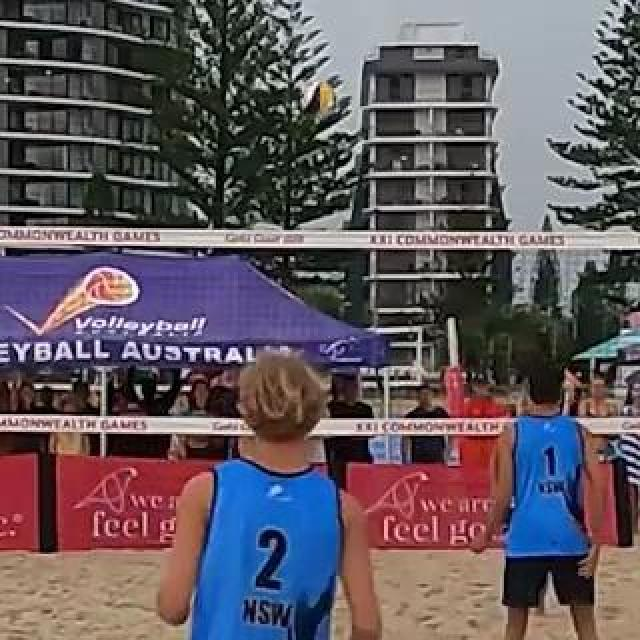volleyball: (305, 82, 339, 116)
